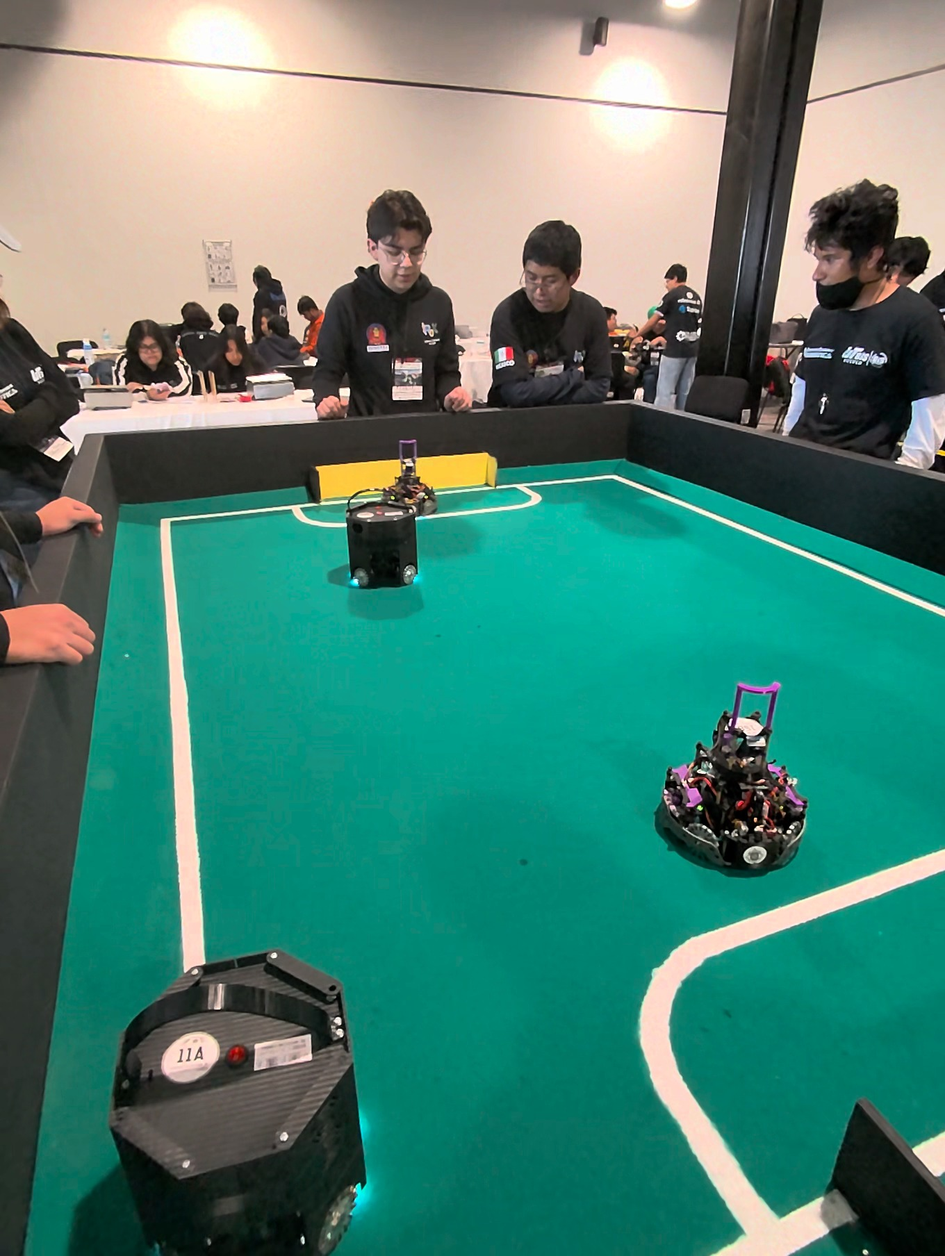Robot: (113, 926, 383, 1256), (659, 690, 809, 887), (346, 446, 442, 618), (345, 436, 441, 520)
